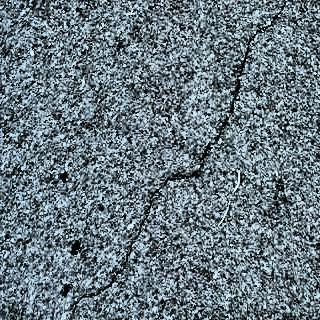alligator-crack: (227, 28, 270, 74), (218, 74, 261, 110), (62, 297, 124, 320), (260, 0, 292, 39), (196, 136, 224, 178), (109, 252, 144, 284), (76, 282, 131, 302), (215, 108, 240, 146), (119, 238, 148, 262), (148, 178, 166, 212), (138, 210, 155, 243), (168, 167, 180, 204), (182, 164, 195, 198)
